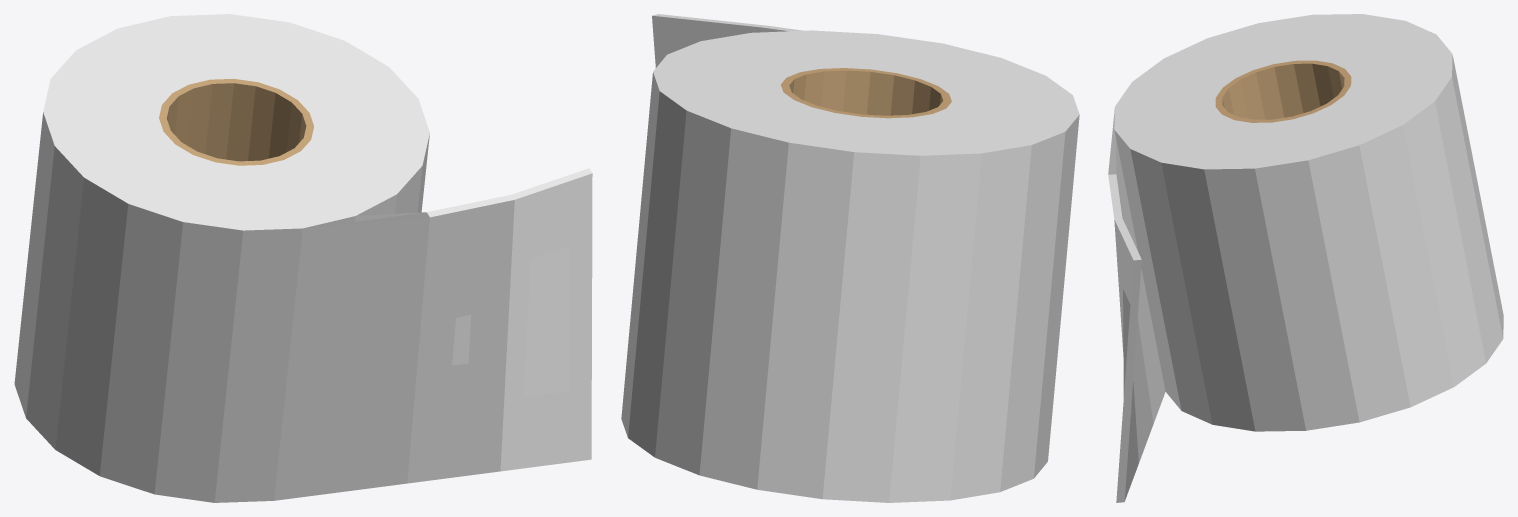
The model's file is 525 Toilet Roll.fbx.
3 renders of one model, left to right at view 1: azimuth 30°, elevation 25°; view 2: azimuth 150°, elevation 25°; view 3: azimuth 270°, elevation 25°, orthographic. The views are drawn at different scales.
Visible parts, largest first — view 1: node_id3; view 2: node_id3; view 3: node_id3.
Boxes of the visible parts, x1,y1,x2,y2 form: node_id3: [14, 14, 592, 502]; node_id3: [621, 14, 1079, 502]; node_id3: [1108, 14, 1503, 502].
Bounding box in the file's own units: 0.6694 × 0.5279 × 0.5835.
Materials: 1 (1 with a texture image).
